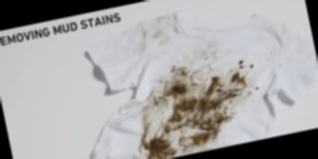earth: (167, 77, 232, 135), (177, 128, 220, 149), (143, 135, 177, 159), (226, 74, 249, 98), (236, 59, 254, 70)
